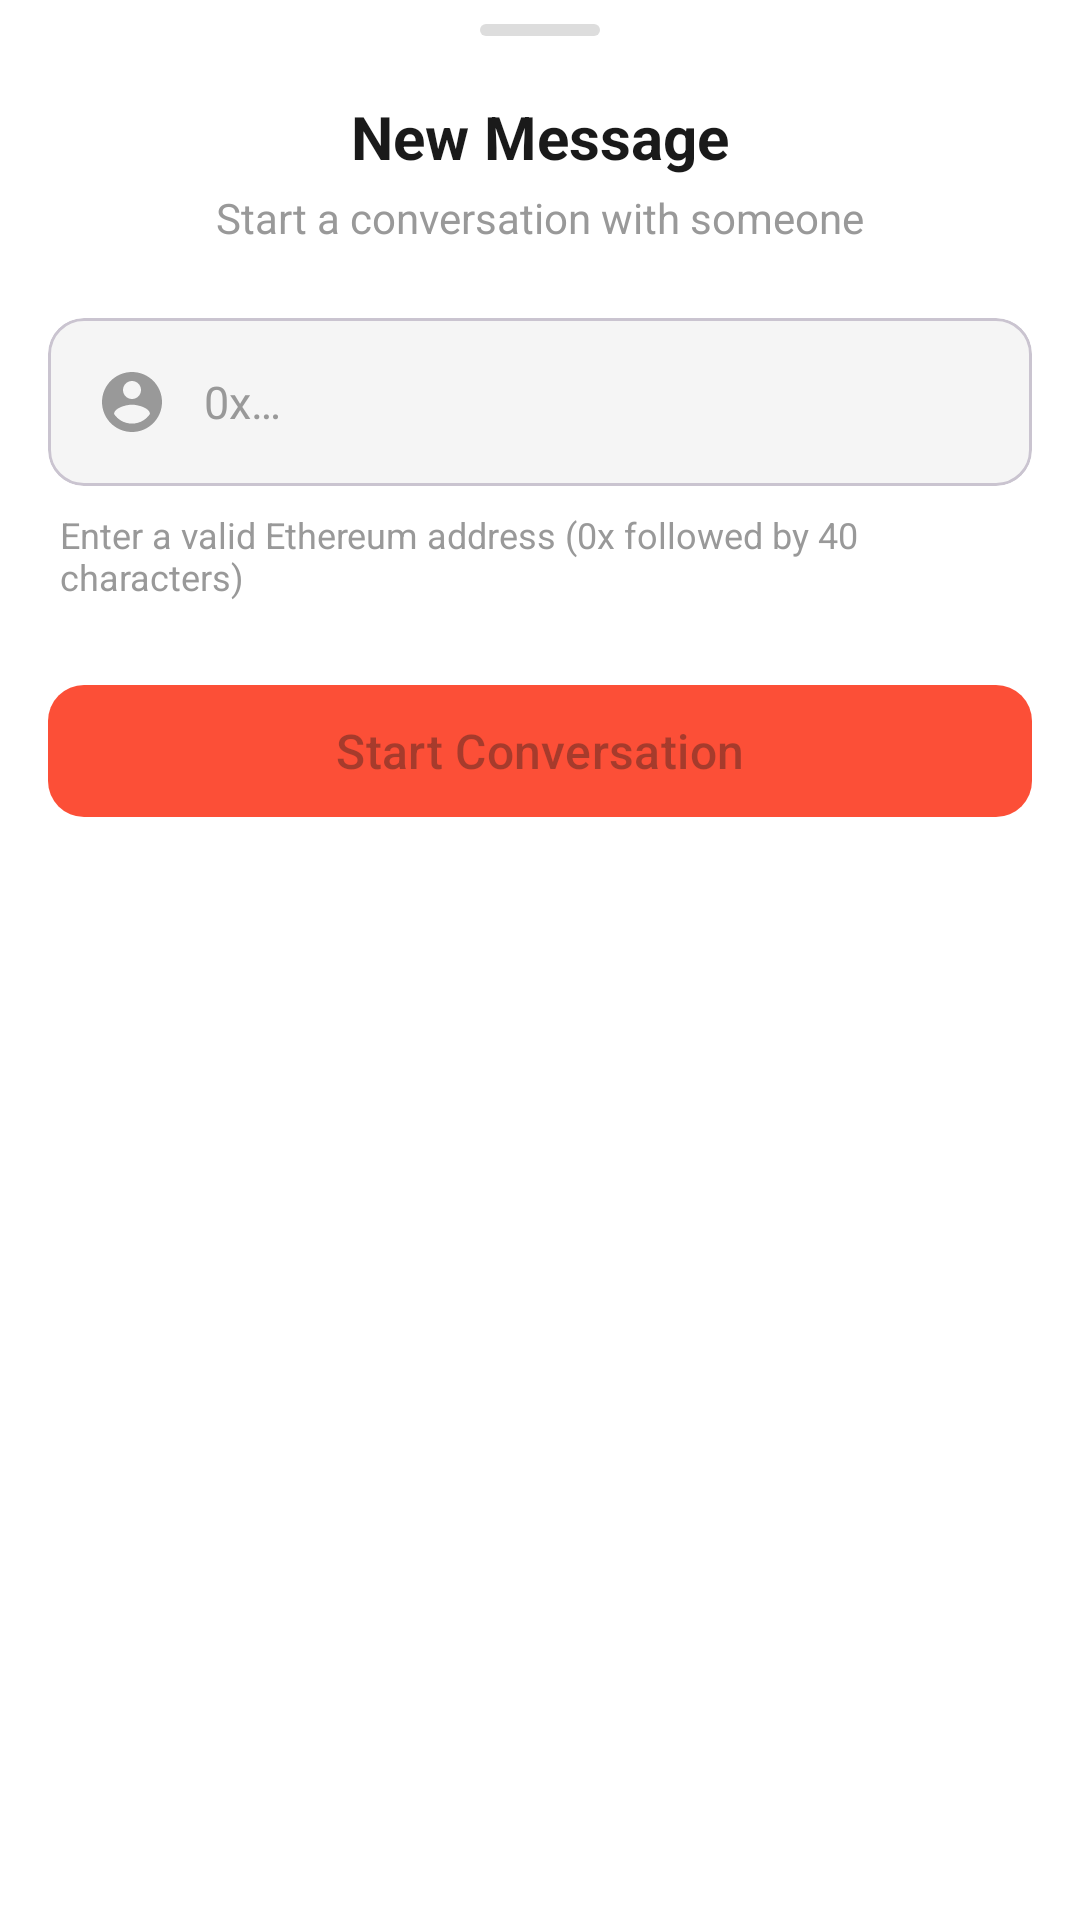

Named icons in this screenshot (1080px×1920px) and their centers, point (x, y):
account circle: point (132, 402)
